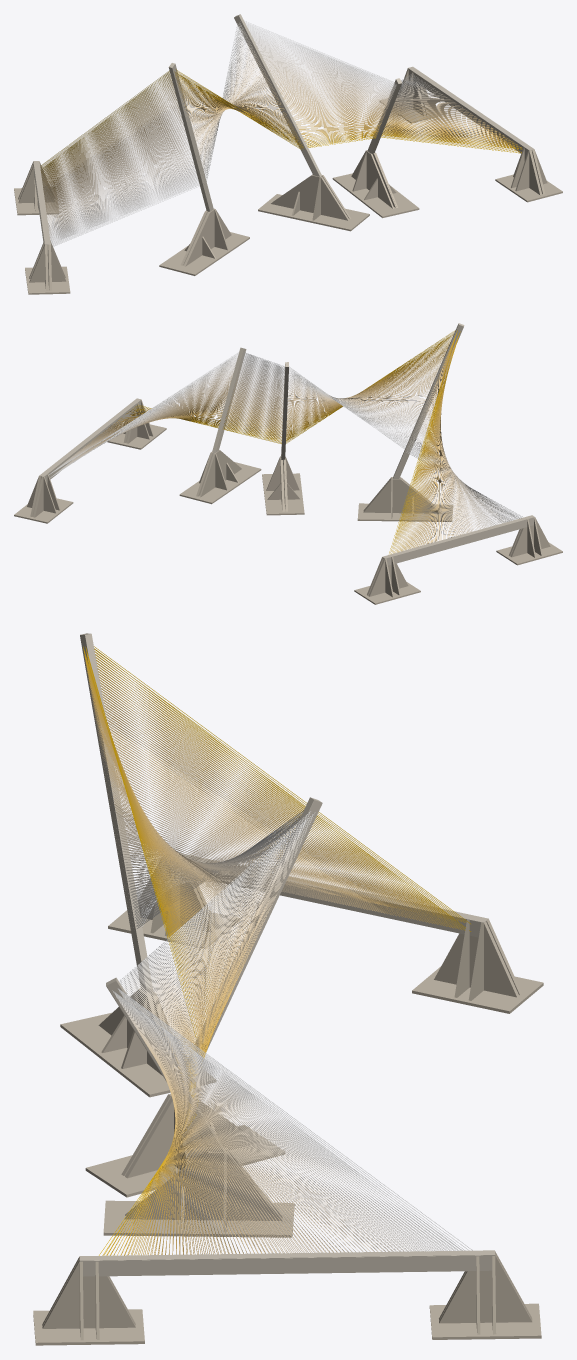
File: pavilion-source-preview.glb
The picture shows the model from 3 angles, top to bottom: view 1: azimuth 30°, elevation 25°; view 2: azimuth 150°, elevation 25°; view 3: azimuth 270°, elevation 25°; orthographic projection. The views are drawn at different scales.
Parts seen in each view (by area): view 1: M05/M05-P01, B04/B04-P04, M03/M03-P01, B04/B04-P09, M02/M02-P01, B03/B03-P08, B05/B05-P01, B03/B03-P06, THREADS/5ed11938-b987-4100-8c5b-f5b9588ffa49, B05/B05-P05, THREADS/f55d2824-ca1a-4bd8-8e72-3208b30cff6e, THREADS/52ca8611-4d50-45d2-9d23-cb5789b393bb (+102 smaller); view 2: M01/M01-P01, B03/B03-P04, M05/M05-P01, M02/M02-P01, B03/B03-P08, B05/B05-P01, B04/B04-P09, THREADS/5ed11938-b987-4100-8c5b-f5b9588ffa49, B05/B05-P05, THREADS/eeb5f4d0-a7ce-4820-b85b-709ca84143f0, THREADS/52ca8611-4d50-45d2-9d23-cb5789b393bb, THREADS/f55d2824-ca1a-4bd8-8e72-3208b30cff6e (+94 smaller); view 3: M05/M05-P02, B05/B05-P03, M01/M01-P01, M02/M02-P01, B05/B05-P01, B06/B06-P03, B07/B07-P03, M03/M03-P01, B04/B04-P08, B03/B03-P08, B04/B04-P09, M05/M05-P01 (+108 smaller).
Boxes of the visible parts, x1,y1,x2,y2 form: M05/M05-P01: (408,66,534,156); B04/B04-P04: (271,175,348,220); M03/M03-P01: (234,14,321,176); B04/B04-P09: (258,194,369,231); M02/M02-P01: (168,63,213,211); B03/B03-P08: (159,232,249,275); B05/B05-P01: (332,173,419,218); B03/B03-P06: (184,208,231,266); THREADS/5ed11938-b987-4100-8c5b-f5b9588ffa49: (41,69,522,166); B05/B05-P05: (351,150,394,208); THREADS/f55d2824-ca1a-4bd8-8e72-3208b30cff6e: (40,72,521,167); THREADS/52ca8611-4d50-45d2-9d23-cb5789b393bb: (40,70,521,167); M01/M01-P01: (382,515,534,565); B03/B03-P04: (363,478,442,513); M05/M05-P01: (39,398,141,482); M02/M02-P01: (393,323,464,478); B03/B03-P08: (357,503,453,521); B05/B05-P01: (179,462,261,504); B04/B04-P09: (262,473,304,515); THREADS/5ed11938-b987-4100-8c5b-f5b9588ffa49: (138,330,460,553); B05/B05-P05: (199,450,241,497); THREADS/eeb5f4d0-a7ce-4820-b85b-709ca84143f0: (49,352,523,518); THREADS/52ca8611-4d50-45d2-9d23-cb5789b393bb: (137,331,454,553); THREADS/f55d2824-ca1a-4bd8-8e72-3208b30cff6e: (136,332,458,553); M05/M05-P02: (79,1255,495,1276); B05/B05-P03: (125,1151,282,1221); M01/M01-P01: (166,853,488,937); M02/M02-P01: (80,633,153,994); B05/B05-P01: (103,1200,294,1237); B06/B06-P03: (439,1255,532,1323); B07/B07-P03: (42,1260,135,1328); M03/M03-P01: (181,797,322,1081); B04/B04-P08: (126,1094,258,1178); B03/B03-P08: (60,1012,216,1097); B04/B04-P09: (85,1125,285,1197); M05/M05-P01: (79,1250,495,1276).
Bounding box in the file's own units: 5.58 × 2.22 × 2.7.
